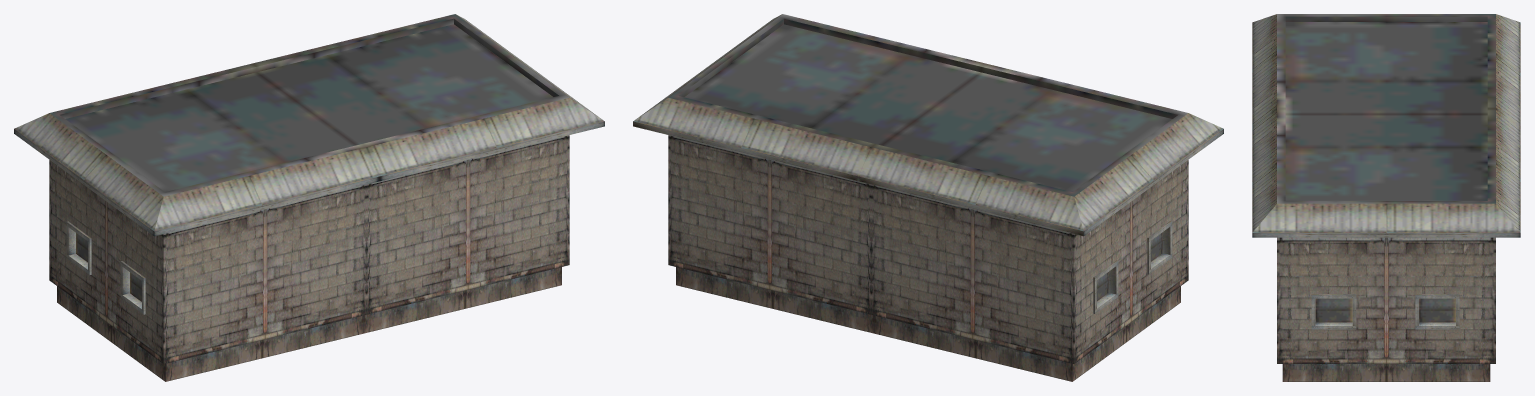
File: Building_3.fbx
3 renders of one model, left to right at view 1: azimuth 30°, elevation 25°; view 2: azimuth 150°, elevation 25°; view 3: azimuth 270°, elevation 25°, orthographic. The views are drawn at different scales.
Parts seen in each view (by area): view 1: Building_4; view 2: Building_4; view 3: Building_4.
Boxes of the visible parts, x1,y1,x2,y2 form: Building_4: [14, 14, 604, 381]; Building_4: [633, 14, 1223, 381]; Building_4: [1252, 14, 1520, 381].
Size of the model in its own units: 15.69 by 6.27 by 8.46.
